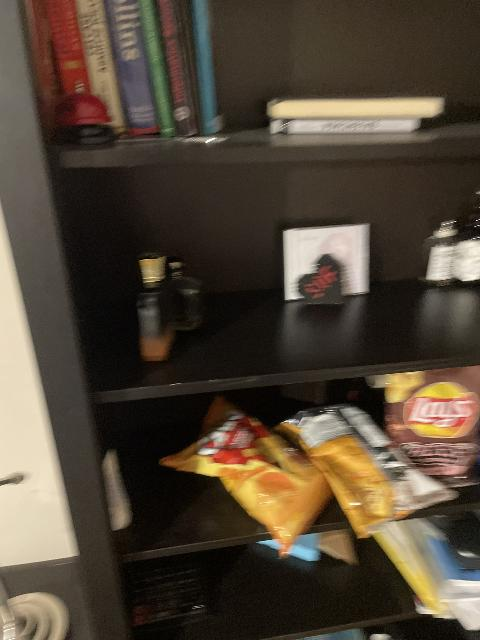Chio Cascaval 125g: (160, 400, 334, 556)
Chio Hula Hoops Cheese 70g: (279, 405, 456, 540)
Lays Beef Grilled Ribs 125g: (384, 366, 480, 488)
